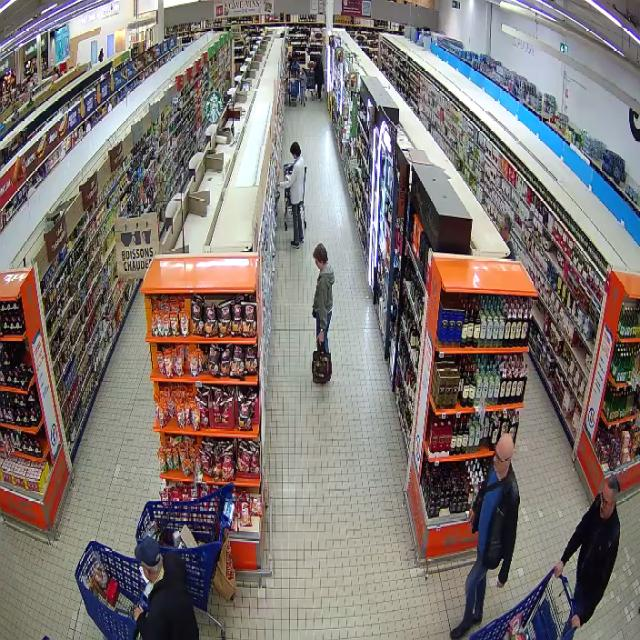bags: (313, 346, 331, 381)
hands: (554, 563, 563, 577), (135, 606, 143, 620), (571, 616, 580, 627), (316, 330, 323, 341), (495, 578, 503, 587), (468, 507, 472, 523)
person: (451, 432, 519, 639), (554, 476, 619, 639), (134, 538, 198, 639), (279, 141, 305, 248), (312, 244, 334, 352)
